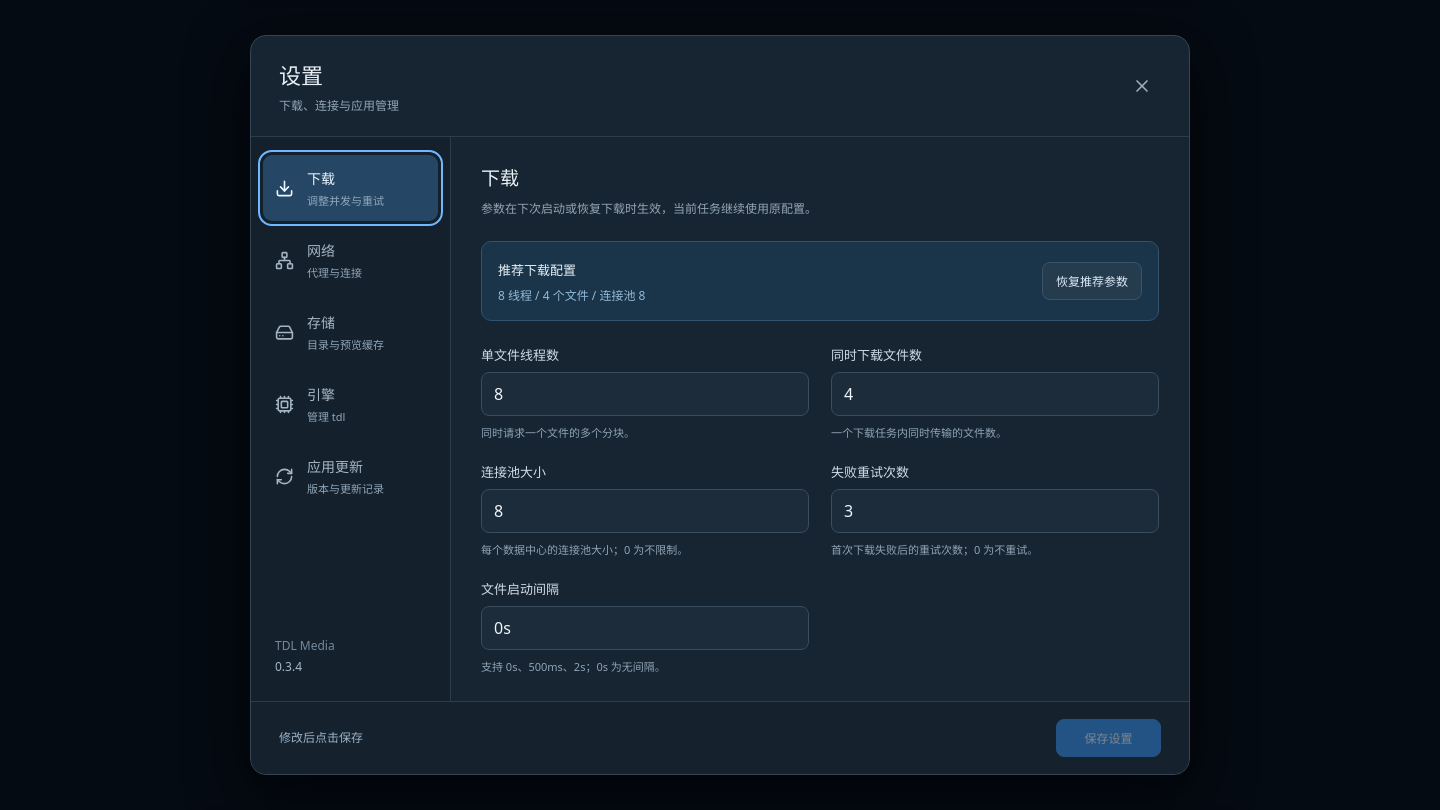
Scenario: keeps changes across categories and submits one atomic patch
Replace the text in the number field labelled "单文件线程数" with "12": (645, 394) [481, 372, 809, 416]
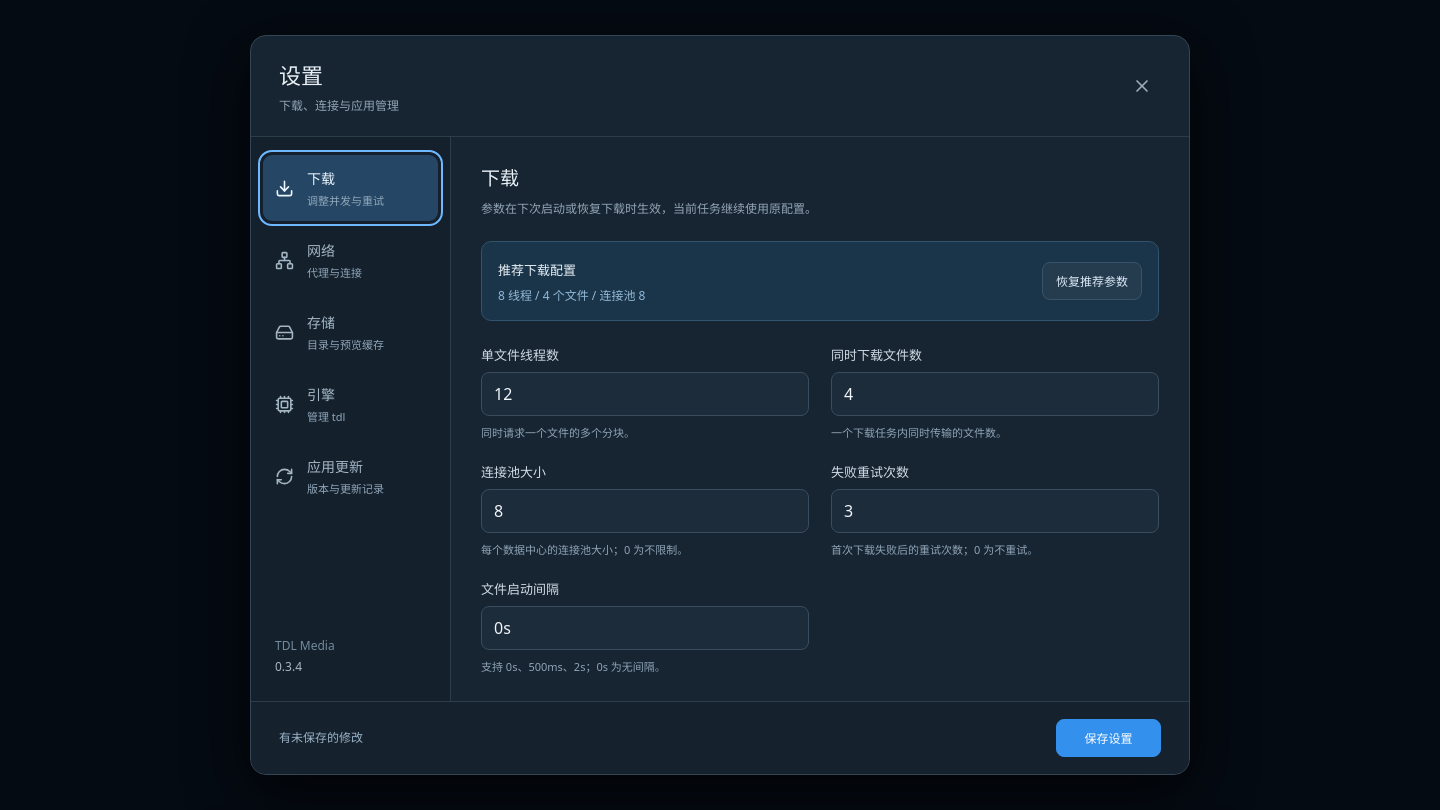
Click the button "网络 代理与连接": (350, 260) [263, 227, 438, 293]
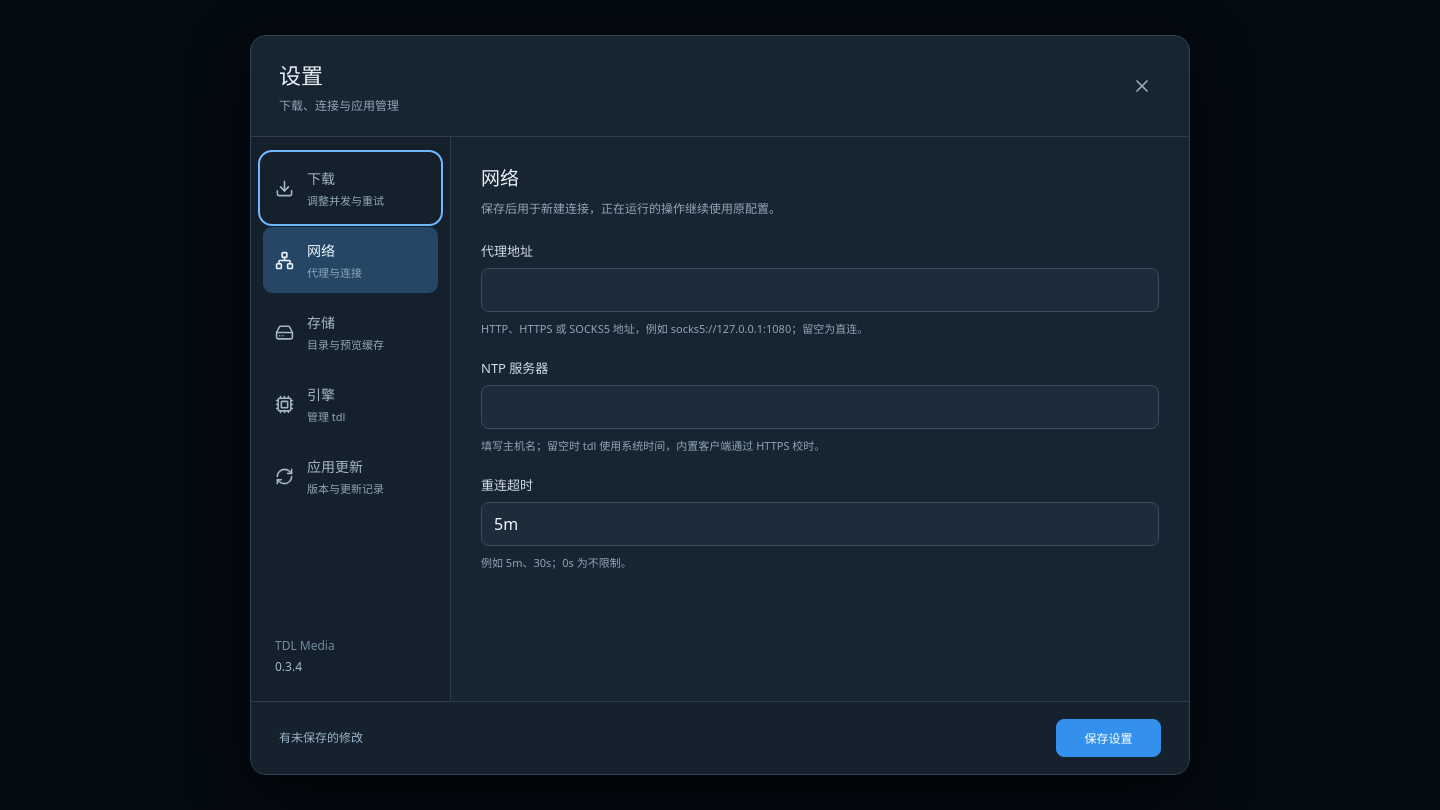
In the field labelled "代理地址": (820, 290) [481, 268, 1159, 312], type "socks5://localhost:1080"
Click the button "存储 目录与预览缓存": (350, 332) [263, 299, 438, 365]
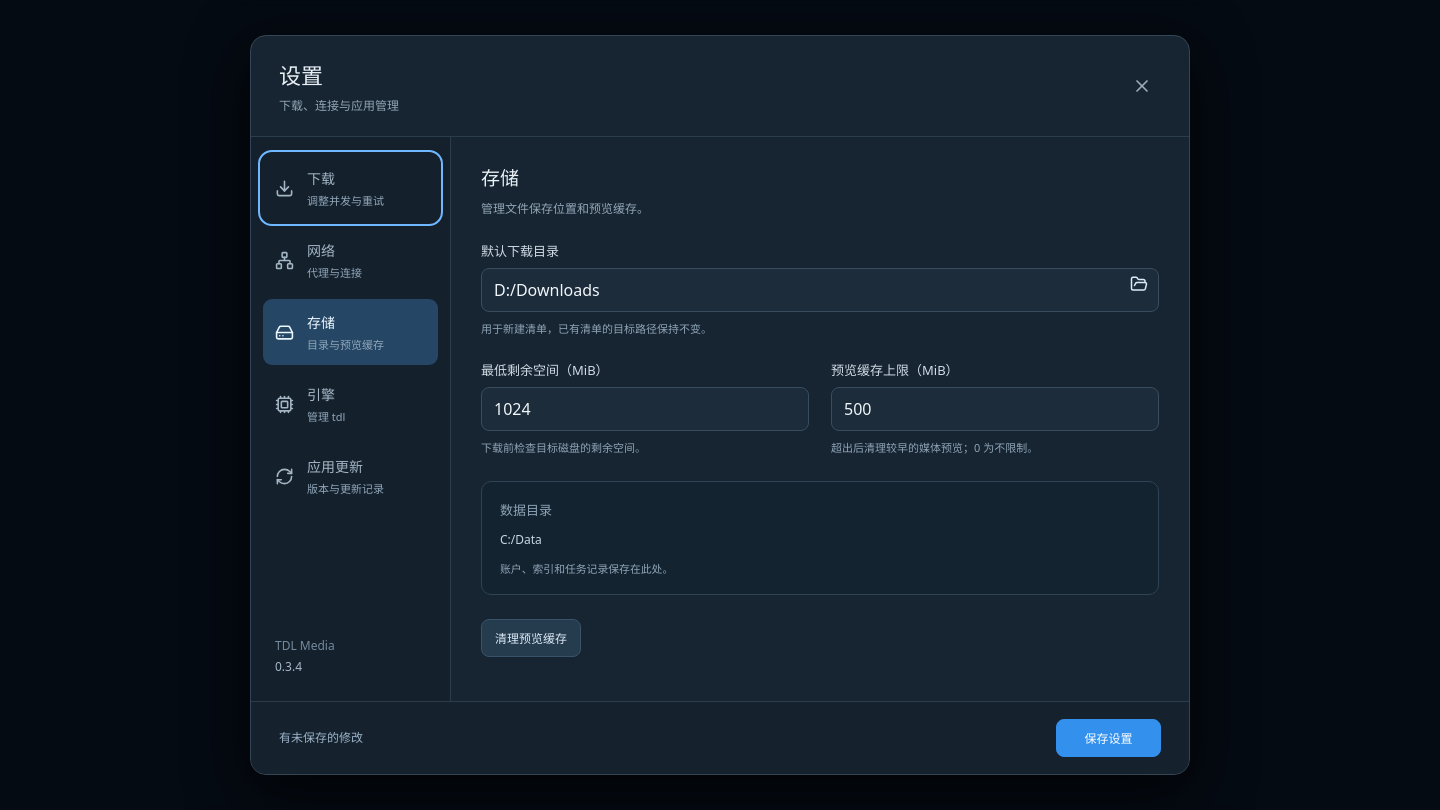
Replace the text in the number field labelled "预览缓存上限（MiB）" with "750": (995, 409) [831, 387, 1159, 431]
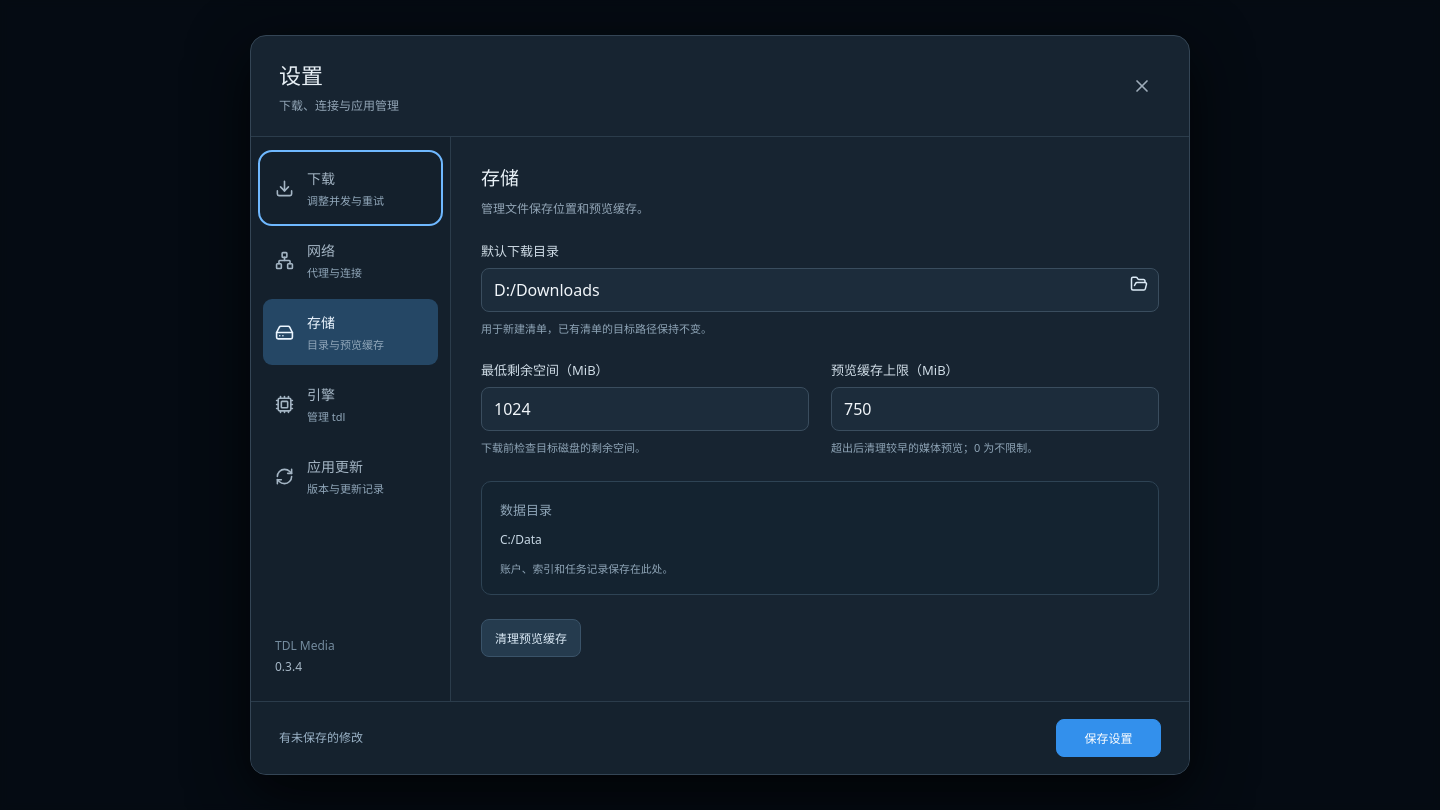
Click the button "下载 调整并发与重试": (350, 188) [263, 155, 438, 221]
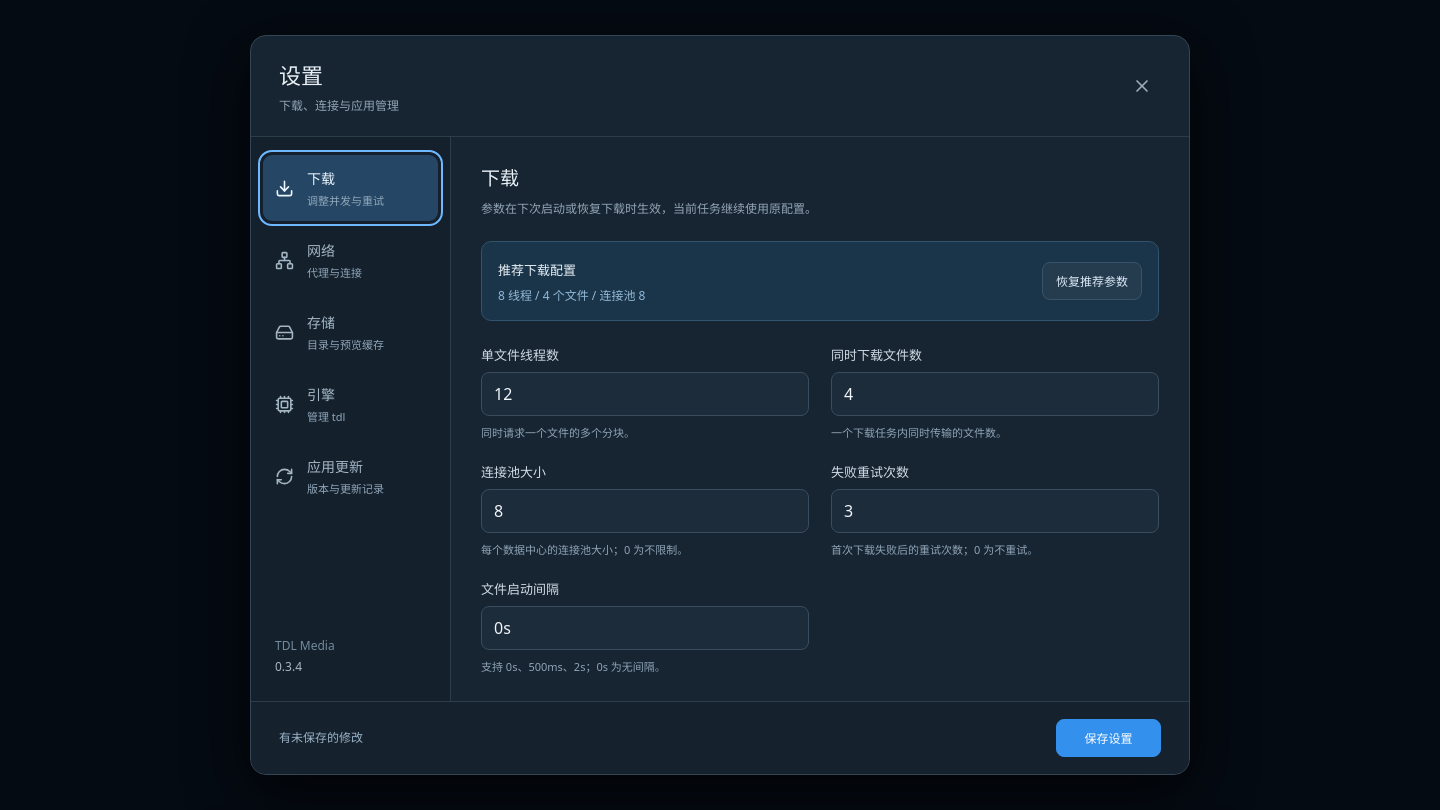
Check: the number field labelled "单文件线程数" holds "12", box [481, 372, 809, 416]
Click the button "保存设置": (1108, 738) [1056, 719, 1161, 757]
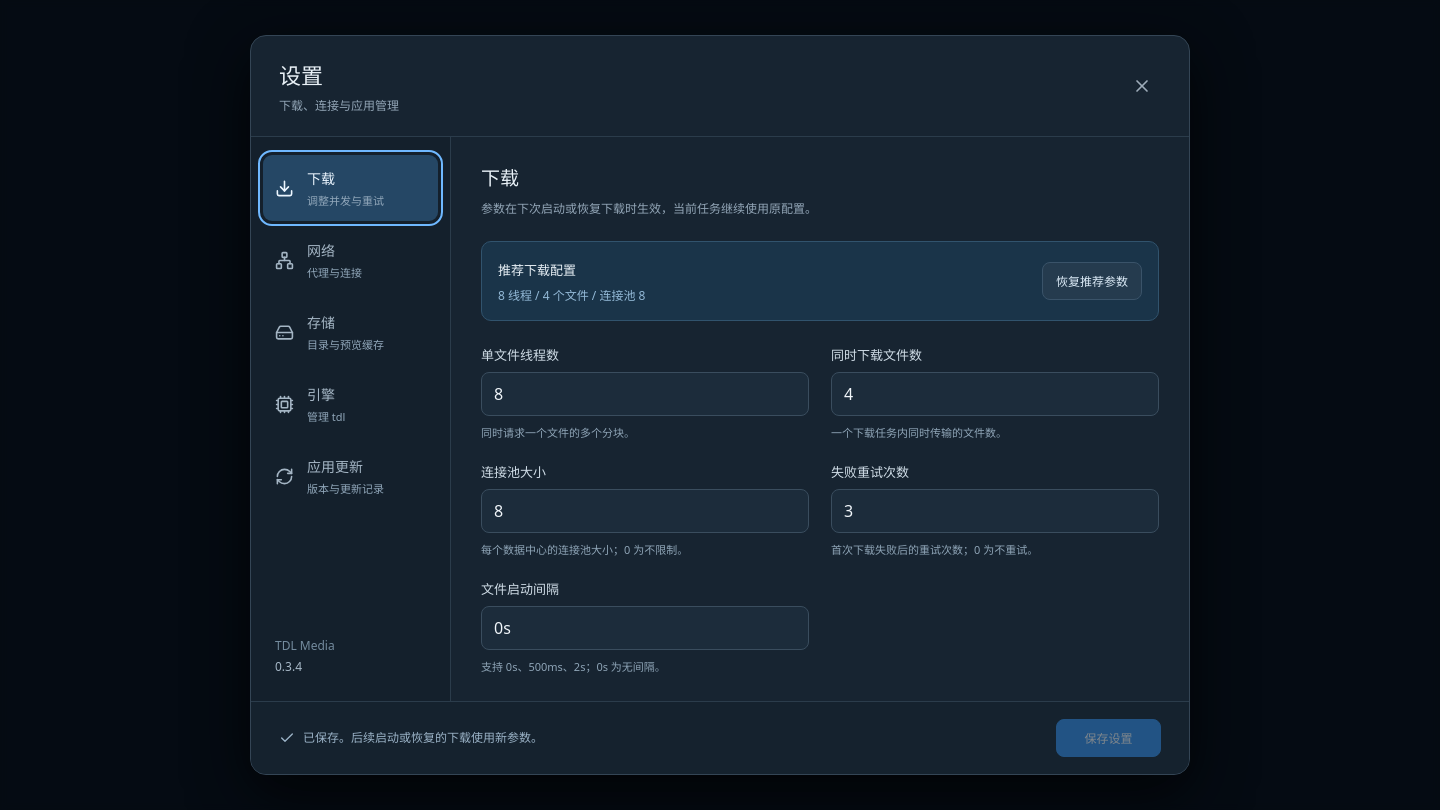
Check: the button "保存设置" is disabled, box [1056, 719, 1161, 757]
